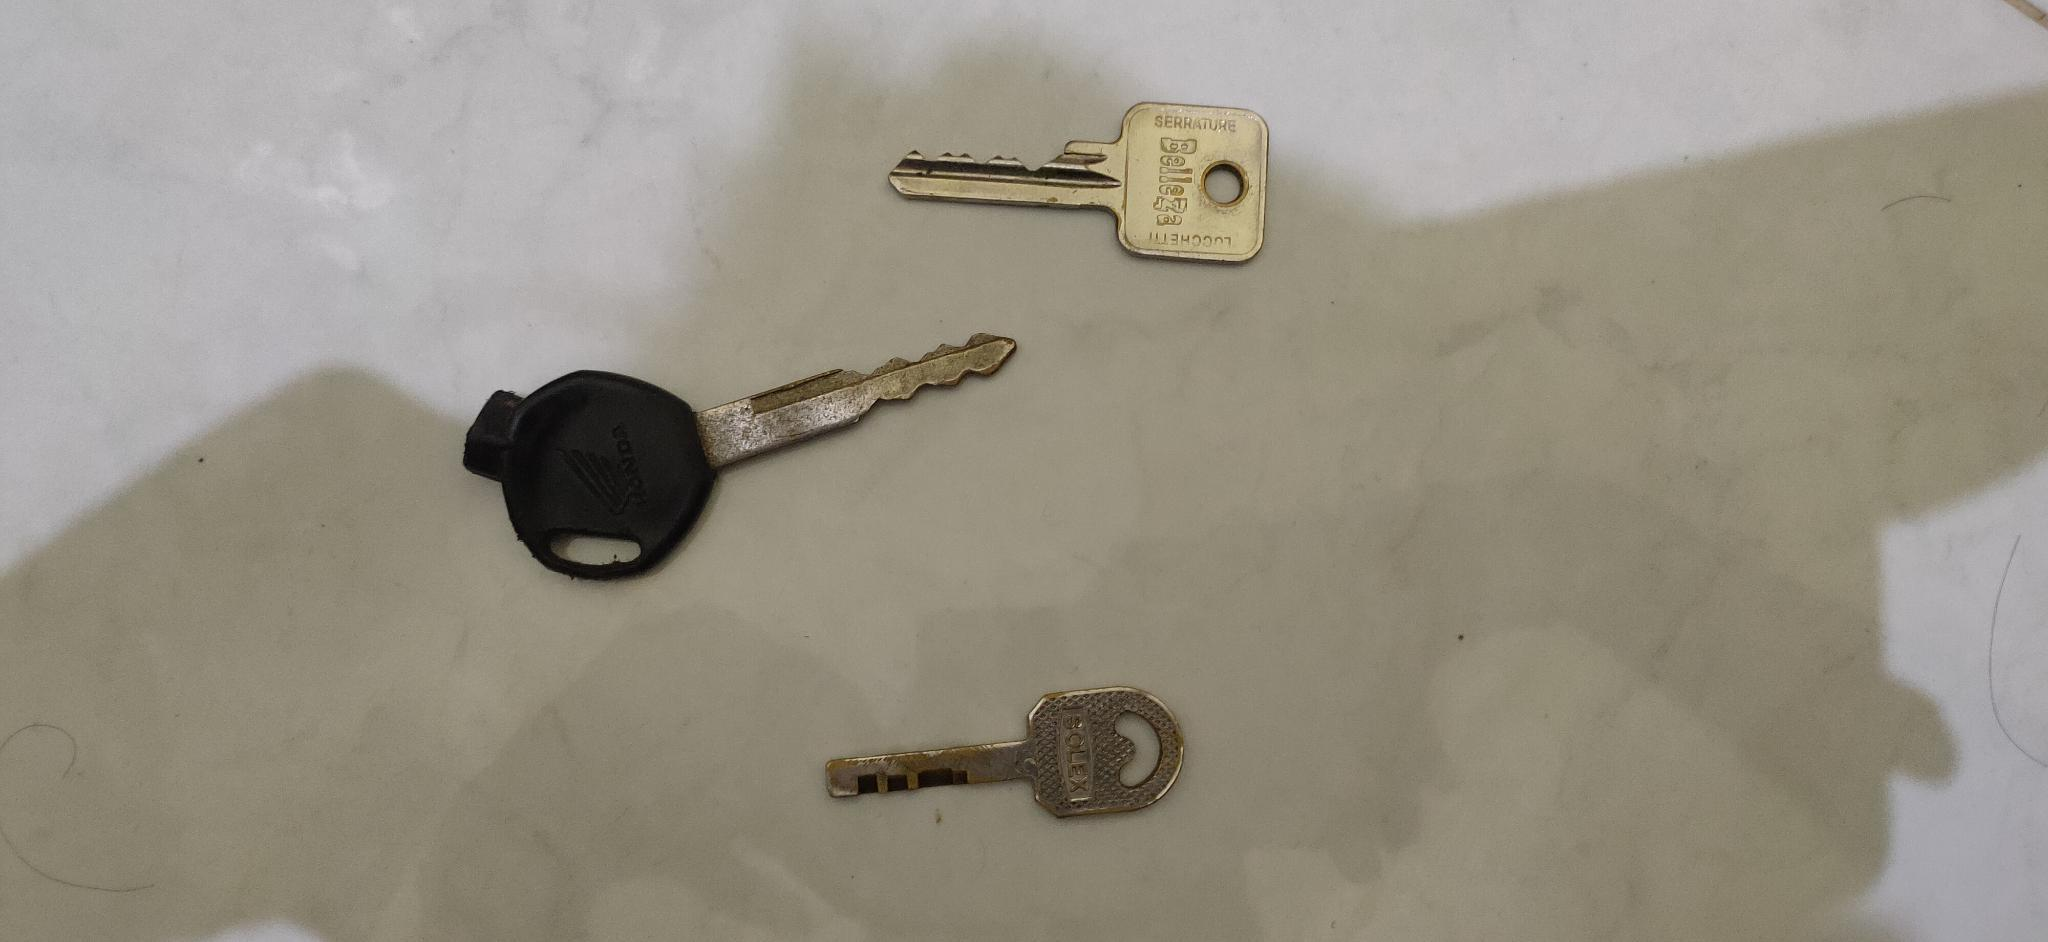keys: (458, 320, 1025, 597), (871, 89, 1276, 268), (825, 682, 1195, 834)
